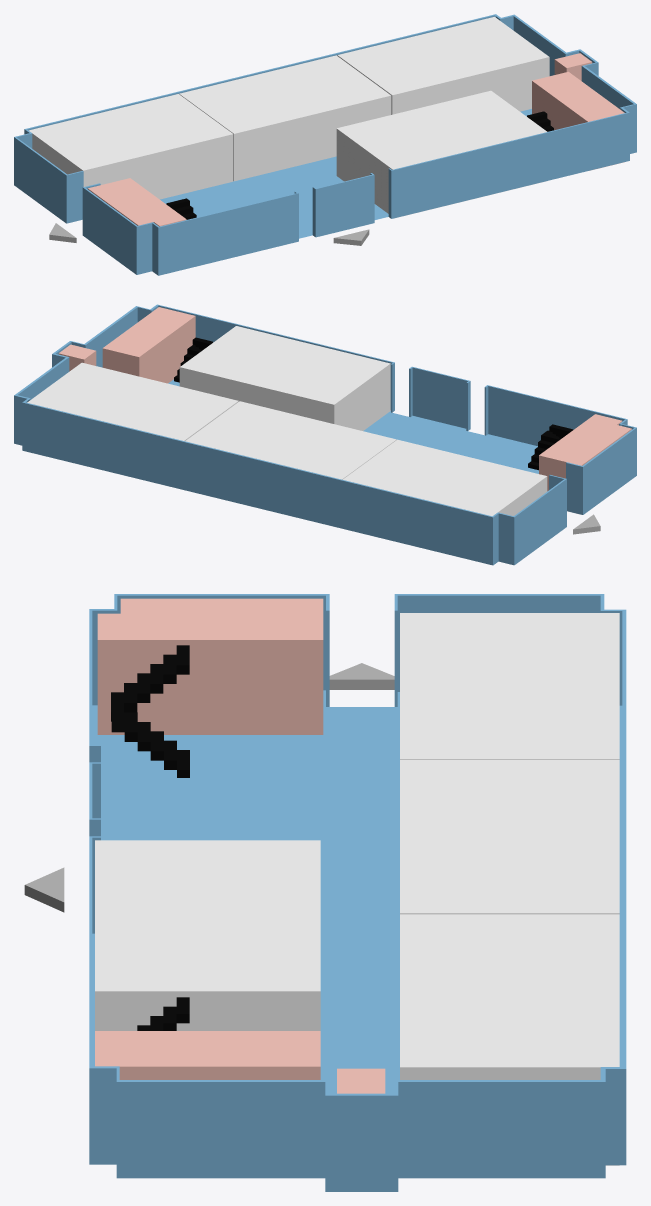
The picture shows the model from 3 angles, top to bottom: view 1: azimuth 30°, elevation 25°; view 2: azimuth 150°, elevation 25°; view 3: azimuth 270°, elevation 25°; orthographic projection. The views are drawn at different scales.
Parts seen in each view (by area): view 1: object, 712, 713, 711, 714, 女子トイレ_7_1, 男子トイレ_7_1, バリアフリートイレ_7_1, transitionTo_全体マップ_7_1_2; view 2: object, 714, 713, 711, 712, 女子トイレ_7_1, 男子トイレ_7_1, 階段_7_1_1, バリアフリートイレ_7_1, 階段_7_1_2; view 3: object, 714, 711, 712, 713, 男子トイレ_7_1, 女子トイレ_7_1, 階段_7_1_1, transitionTo_全体マップ_7_1_1, バリアフリートイレ_7_1, transitionTo_全体マップ_7_1_2, 階段_7_1_2.
Part boxes in pixels (box(x1,y1,x2,y2)): object: box(14, 14, 636, 275); 712: box(179, 55, 391, 181); 713: box(29, 94, 233, 199); 711: box(337, 17, 549, 114); 714: box(336, 90, 547, 218); 女子トイレ_7_1: box(532, 71, 624, 170); 男子トイレ_7_1: box(87, 178, 186, 226); バリアフリートイレ_7_1: box(554, 53, 592, 80); transitionTo_全体マップ_7_1_2: box(333, 229, 369, 245); object: box(14, 304, 636, 565); 714: box(179, 326, 390, 430); 713: box(343, 439, 547, 516); 711: box(27, 362, 238, 441); 712: box(185, 401, 396, 479); 女子トイレ_7_1: box(102, 307, 195, 383); 男子トイレ_7_1: box(539, 414, 631, 491); 階段_7_1_1: box(528, 424, 573, 470); バリアフリートイレ_7_1: box(58, 344, 96, 371); 階段_7_1_2: box(174, 337, 212, 382); object: box(89, 594, 626, 1191); 714: box(95, 840, 320, 1030); 711: box(400, 914, 619, 1165); 712: box(400, 760, 619, 914); 713: box(400, 613, 619, 759); 男子トイレ_7_1: box(97, 598, 323, 734); 女子トイレ_7_1: box(95, 1031, 320, 1079); 階段_7_1_1: box(111, 645, 189, 777); transitionTo_全体マップ_7_1_1: box(329, 663, 394, 689); バリアフリートイレ_7_1: box(337, 1068, 385, 1093); transitionTo_全体マップ_7_1_2: box(24, 867, 64, 912); 階段_7_1_2: box(137, 997, 189, 1030).
Bounding box in the file's own units: 2.1 × 0.1936 × 1.01.
